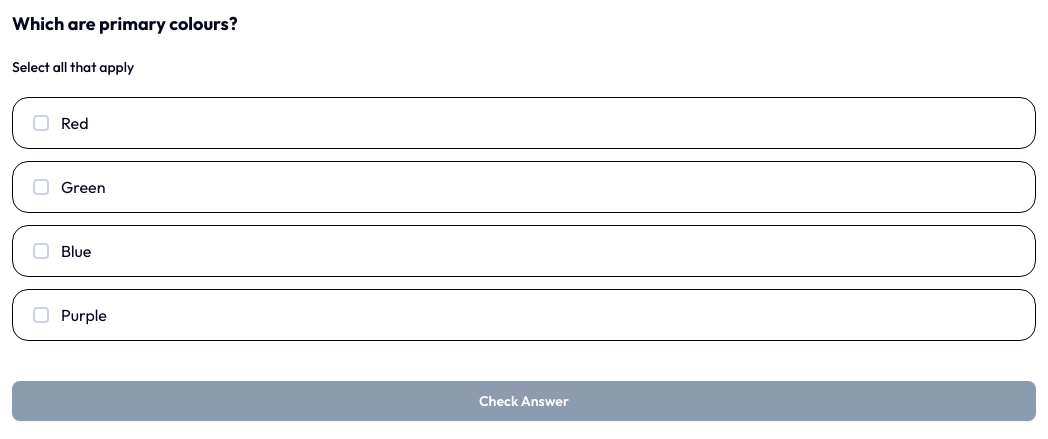
Test: QuizInlineViewer — select_all › enables Check Answer after selecting an option
Click the button "Red". click: click(41, 123)
box: [12, 97, 1036, 149]
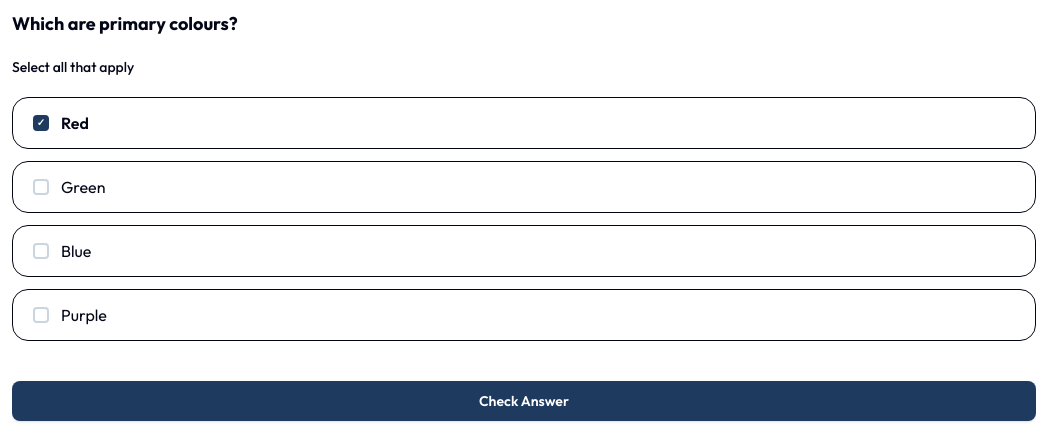
expect the button "Check Answer" is enabled: met, box [12, 381, 1036, 421]
